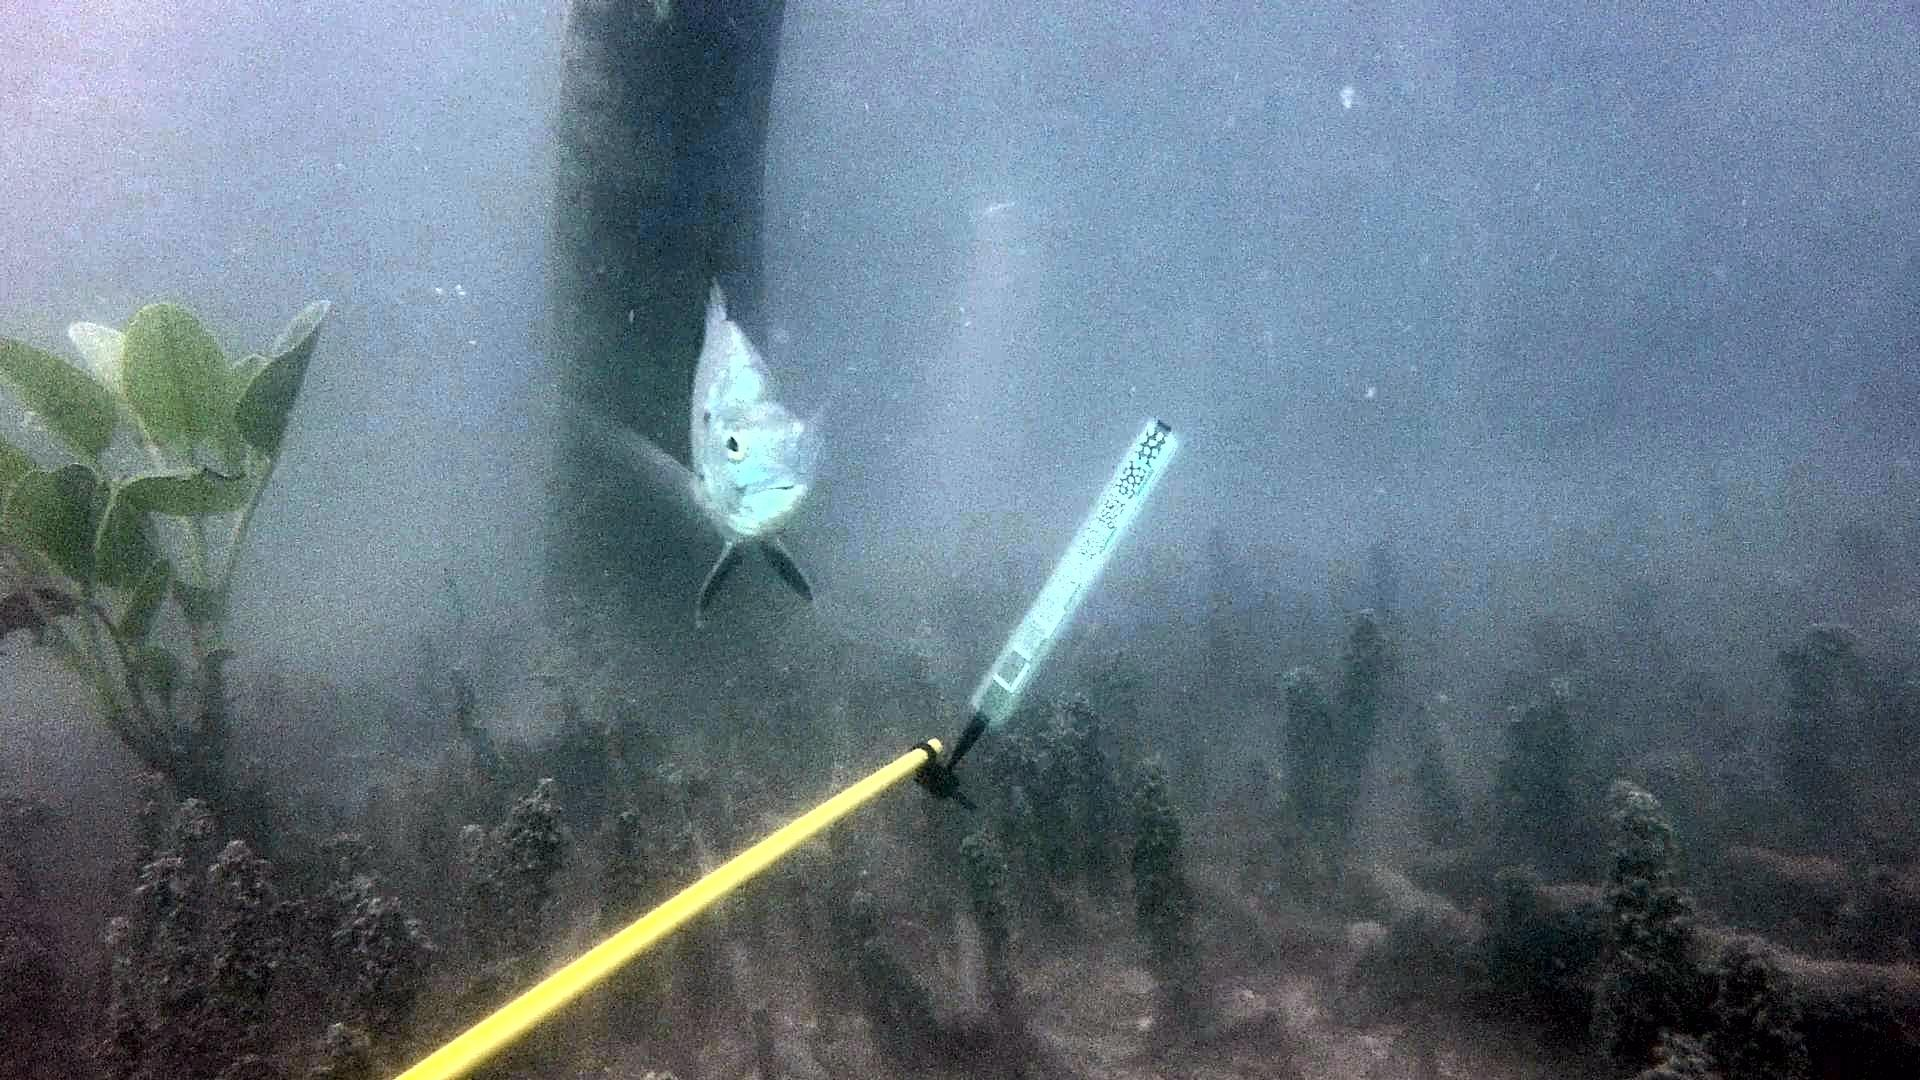acanthopagrus palmaris: (546, 248, 872, 630)
